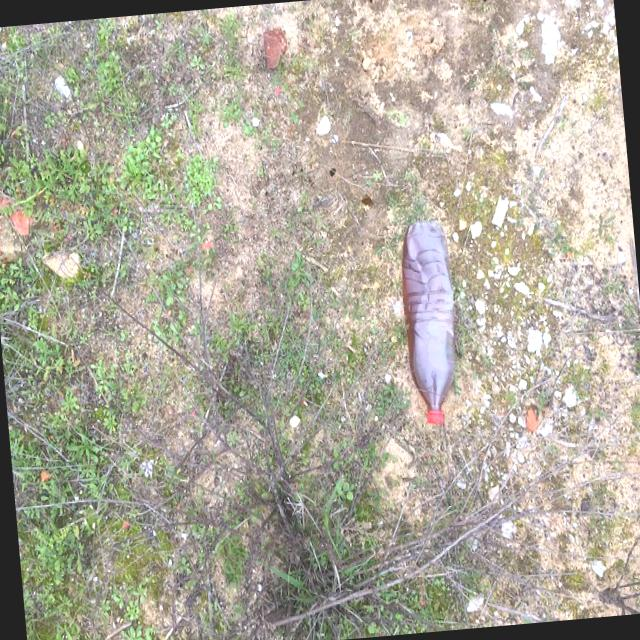Trash: (392, 213, 467, 437)
